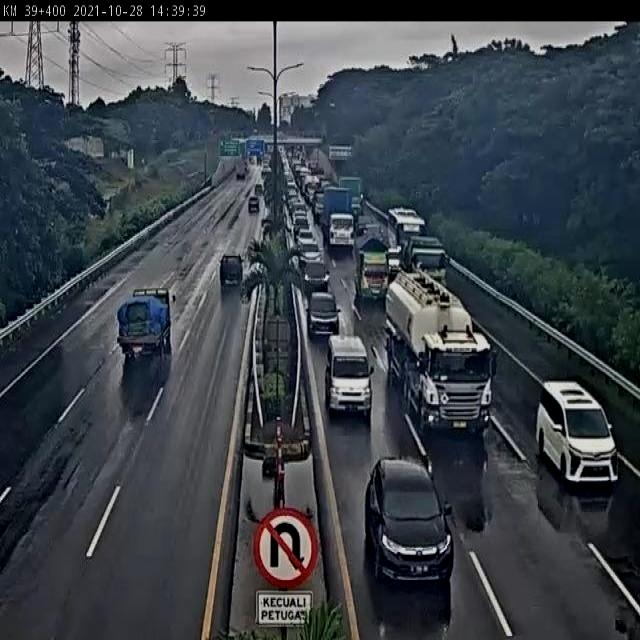Car: (365, 453, 455, 593), (304, 292, 342, 341), (301, 260, 331, 293), (218, 253, 245, 287), (297, 240, 325, 266), (247, 196, 261, 214)
Truck: (116, 286, 178, 362), (396, 234, 451, 292), (352, 234, 392, 302), (322, 187, 355, 253)
Van: (386, 273, 498, 437), (536, 381, 621, 493), (326, 332, 375, 421)
